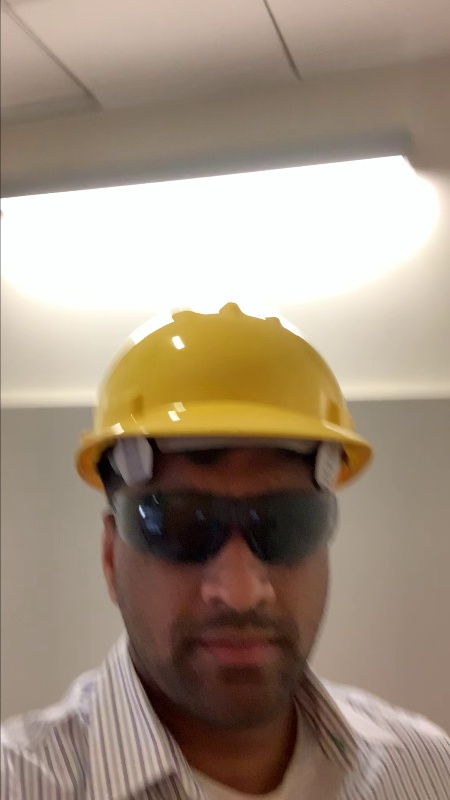glasses: (106, 484, 344, 566)
helmet: (65, 298, 375, 486)
